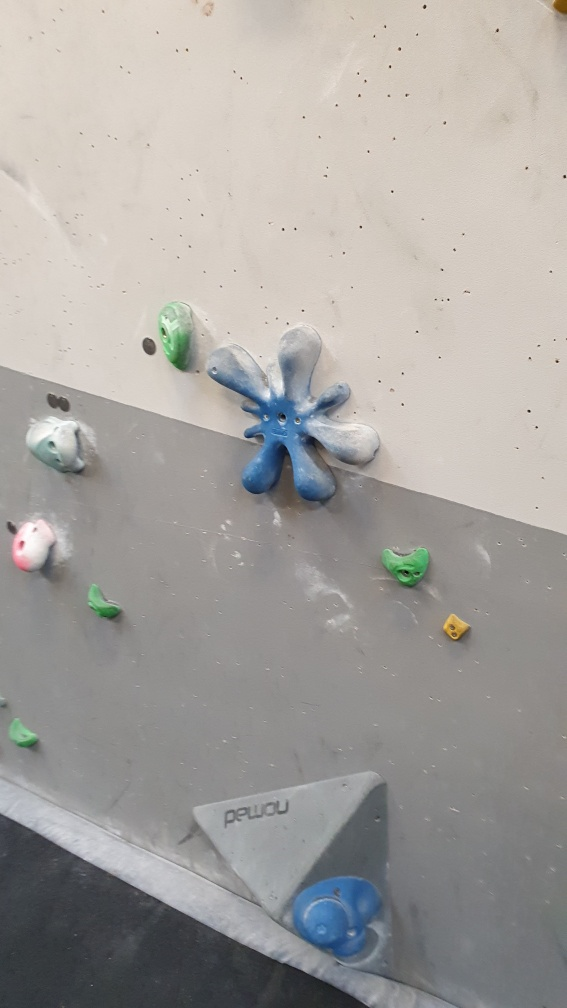Hand Start: (138, 334, 158, 364), (57, 395, 73, 418), (4, 519, 16, 537), (46, 389, 56, 410)
Octopus Pinch: (207, 316, 388, 507)
Sloper: (292, 864, 383, 962), (155, 296, 203, 380), (375, 541, 440, 593), (46, 418, 94, 480), (10, 522, 65, 570), (80, 582, 122, 621), (4, 712, 45, 751)
